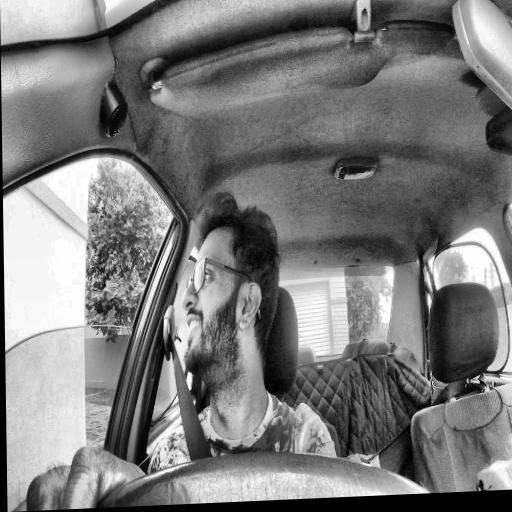awake: (179, 190, 282, 391)
